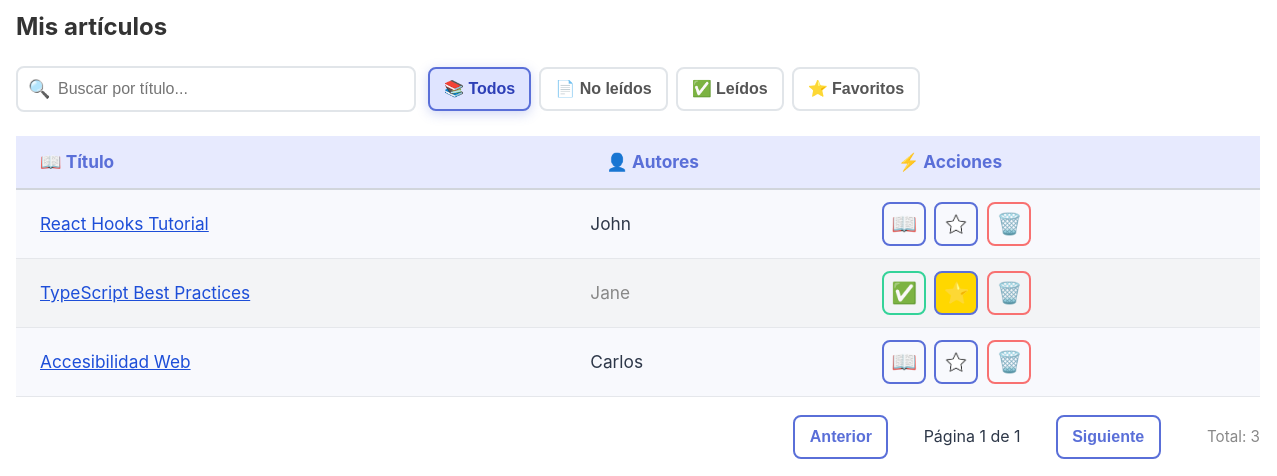
Test: Favorite Functionality › actualiza el estado local optimísticamente al marcar como favorito
Check: the link "React Hooks Tutorial" is shown, box top-left (40, 213), bottom-right (209, 234)
Check: the picture in the row of "React Hooks Tutorial" is shown, box top-left (943, 211), bottom-right (969, 237)
// Hacer clic
Click the button titled "Añadir a favoritos" in the row of "React Hooks Tutorial" at point(956, 224), box top-left (934, 202), bottom-right (978, 246)
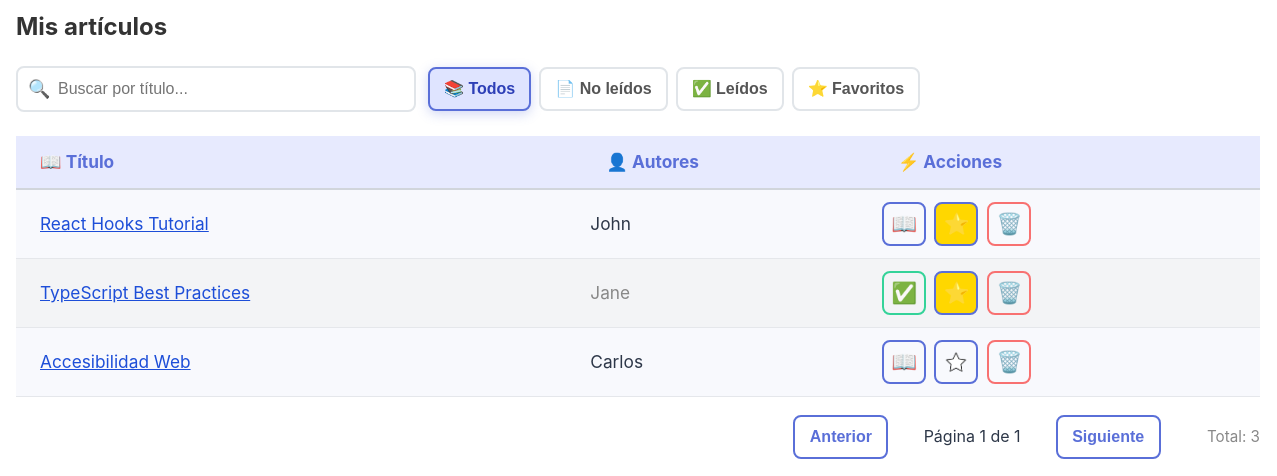
Check: the button titled "Añadir a favoritos" in the row of "React Hooks Tutorial" reads "⭐", box top-left (934, 202), bottom-right (978, 246)
